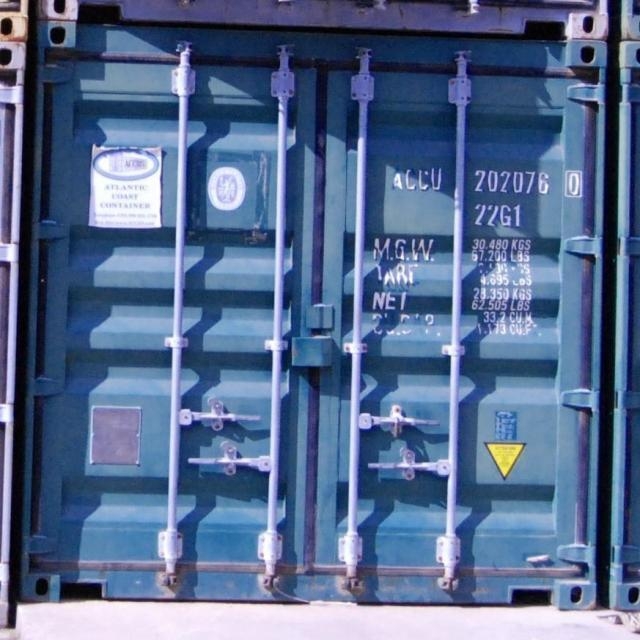ISO: (472, 204, 523, 229)
container_number: (404, 171, 585, 196)
